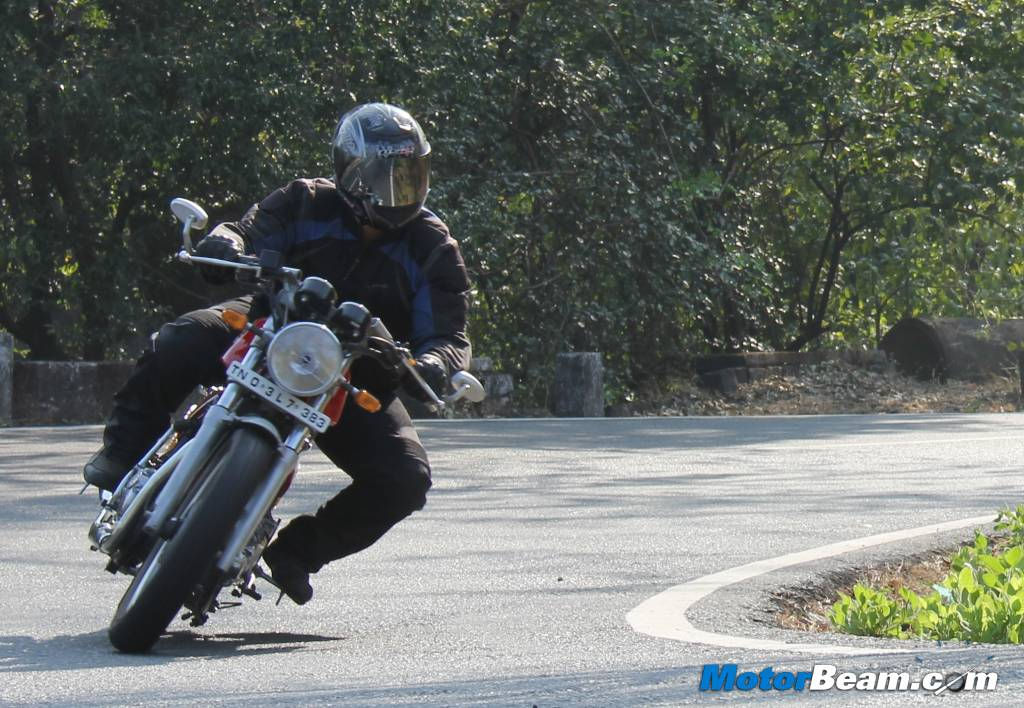helmet: (325, 101, 434, 236)
